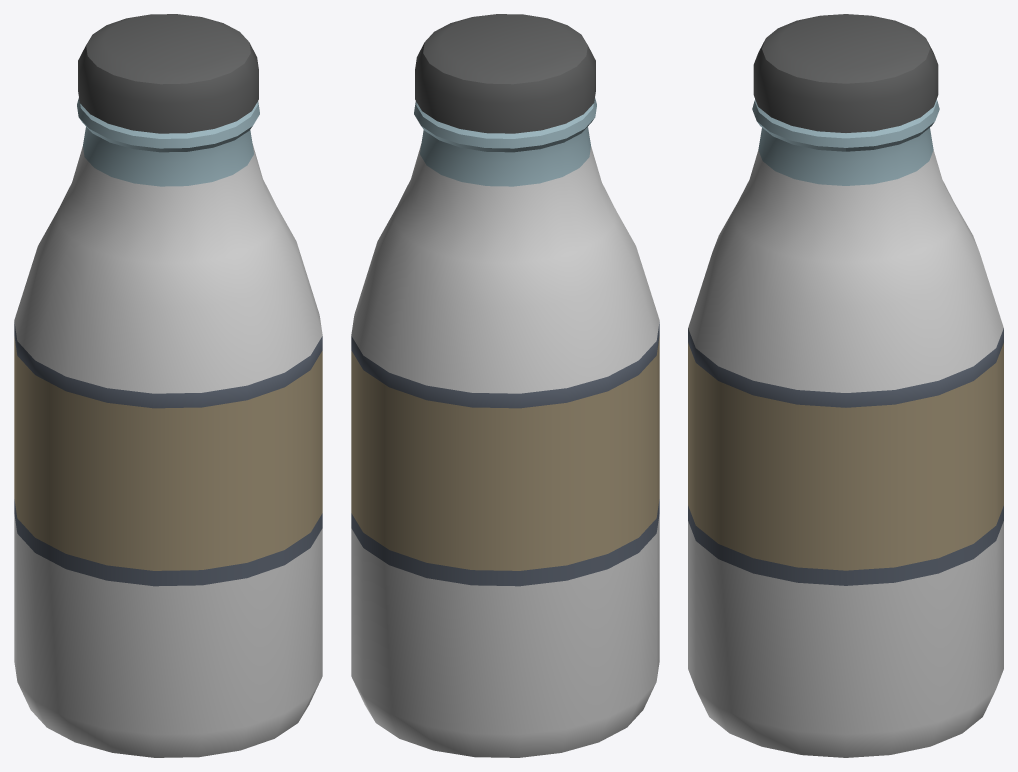
The model's file is MilkBottle.fbx.
3 renders of one model, left to right at view 1: azimuth 30°, elevation 25°; view 2: azimuth 150°, elevation 25°; view 3: azimuth 270°, elevation 25°, orthographic.
Visible parts, largest first — view 1: pCylinder1; view 2: pCylinder1; view 3: pCylinder1.
Boxes of the visible parts, x1=… form: pCylinder1: x1=14, y1=14, x2=322, y2=757; pCylinder1: x1=351, y1=14, x2=659, y2=757; pCylinder1: x1=688, y1=14, x2=1003, y2=757.
Bounding box in the file's own units: 46.43 × 111 × 47.54.
